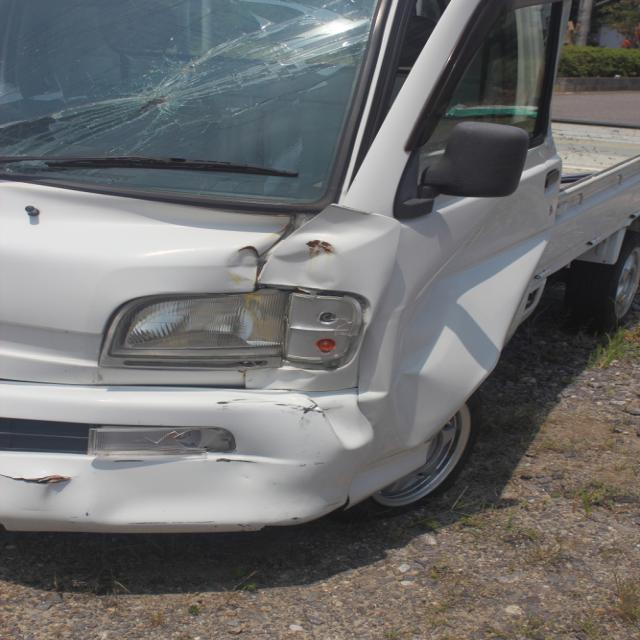Cabossage: (349, 191, 549, 447), (69, 448, 310, 526), (284, 372, 412, 469), (226, 241, 346, 294)
Dechirure: (4, 470, 87, 489)
Fissure: (17, 0, 378, 173)
